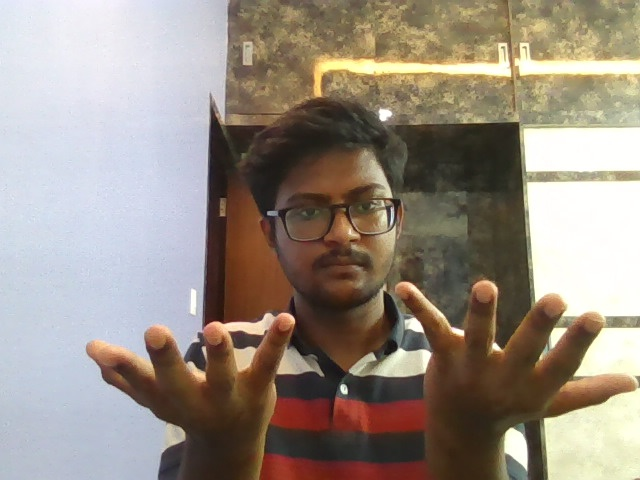what: (56, 294, 639, 460)
